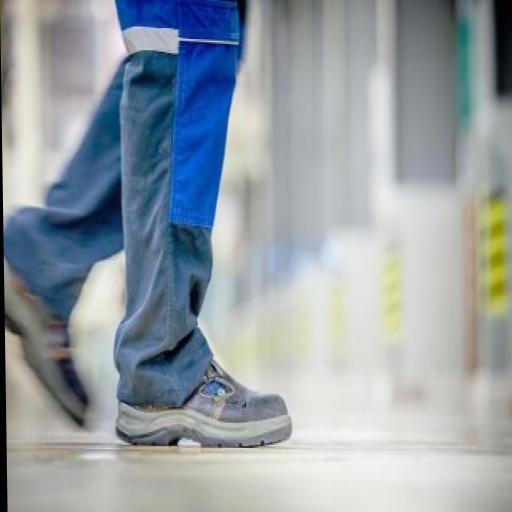safety_boots: (108, 346, 308, 462), (6, 319, 96, 433)
